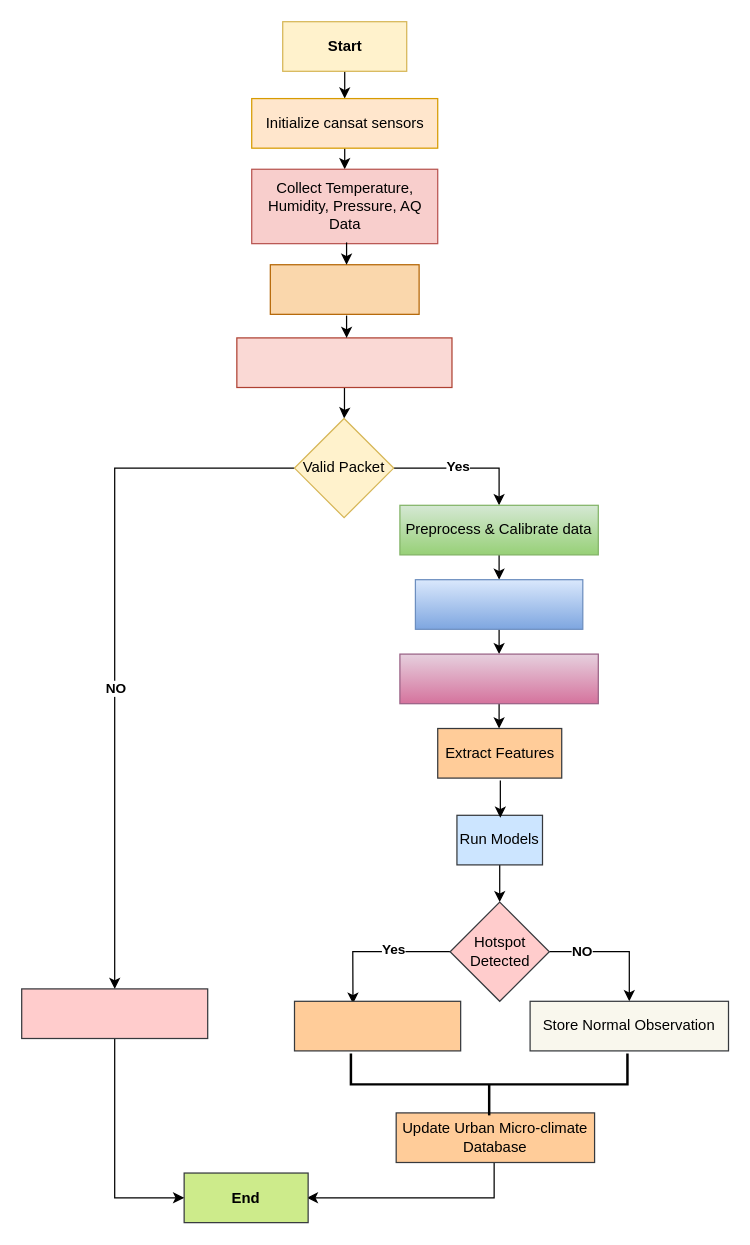
Image size: 750x1245. Some labels were removed from this diagram. The box of each missing label's shape, as (x1, y1, x2, y2) in pixels:
Acquire Satellite Data: (414, 578, 583, 629)
Discard / Resque Next Sample: (20, 988, 208, 1038)
Fuse Ground & Satellite Data: (399, 653, 598, 704)
Generate Alert & Map: (293, 1000, 461, 1051)
Receive data at Ground Station: (236, 337, 452, 388)
Transmit Via XBee: (269, 264, 419, 314)
